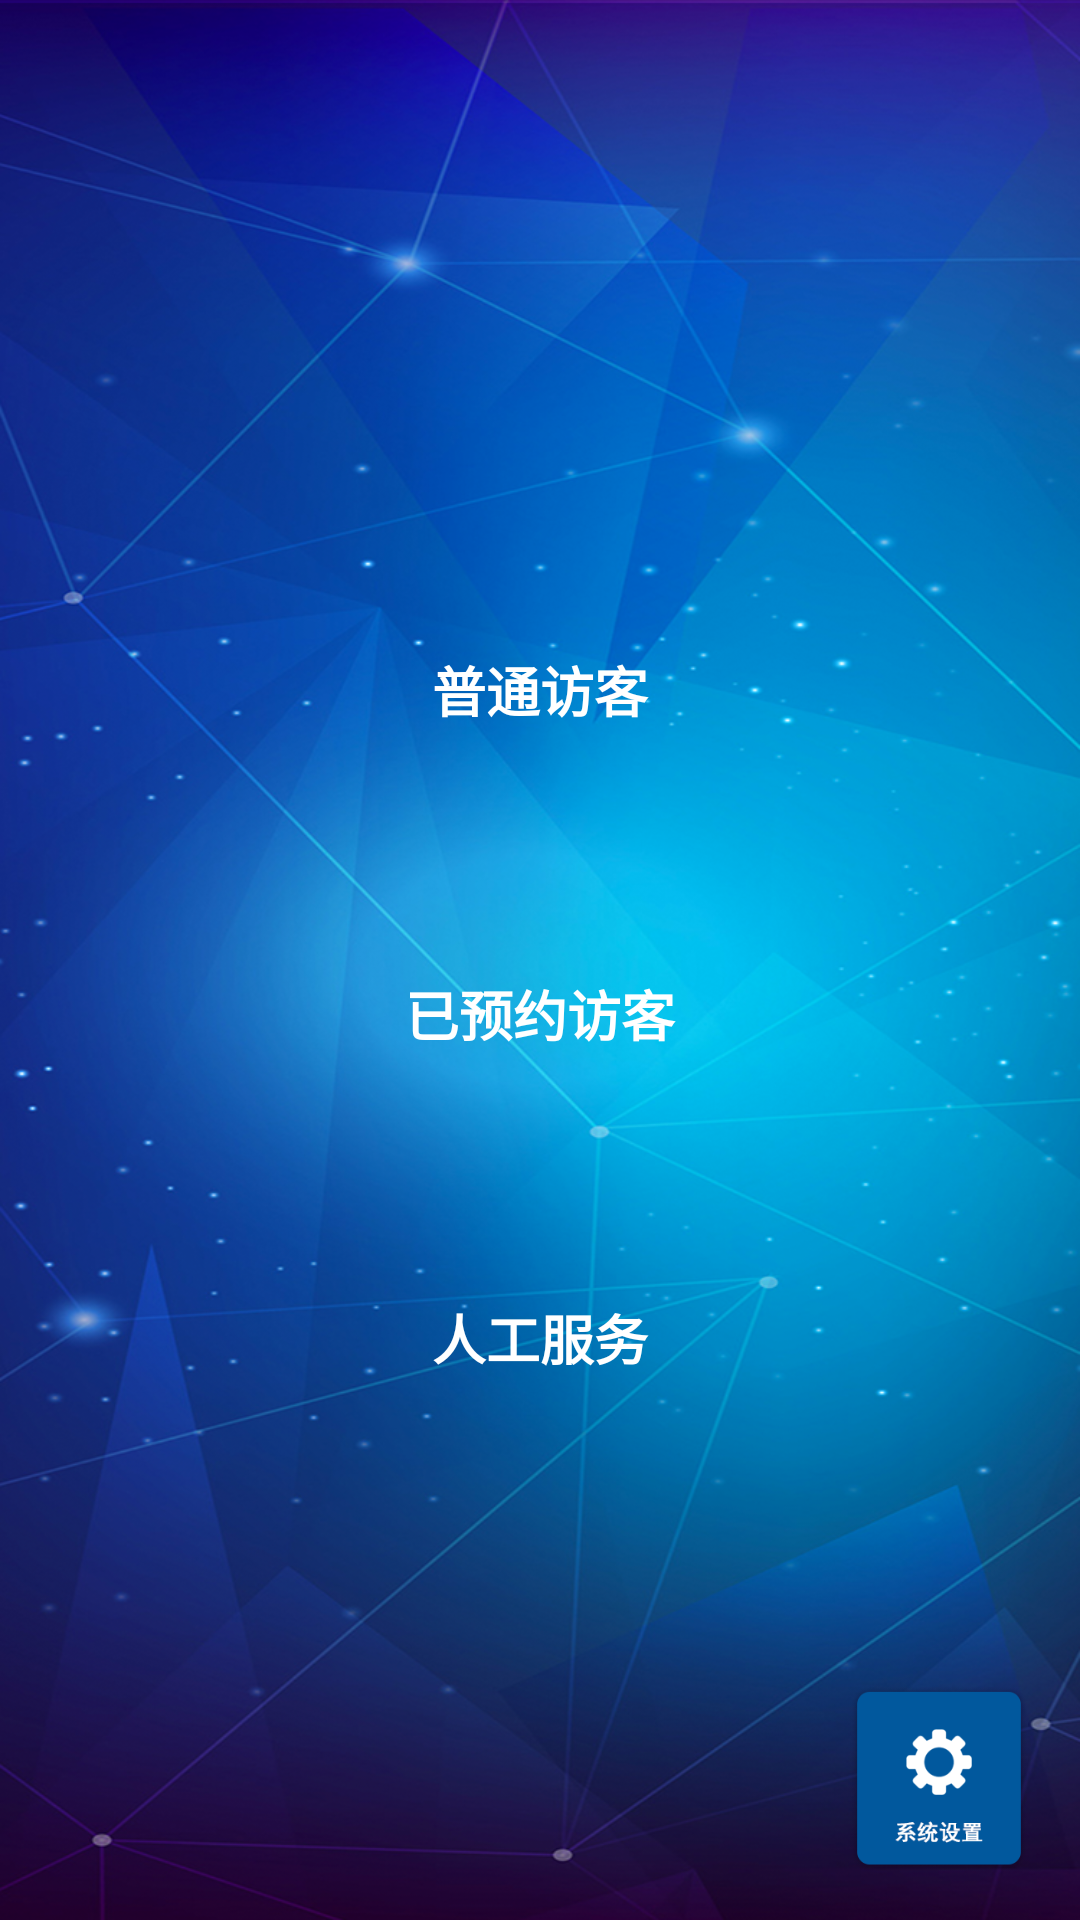

Point at icon controls on the screen. Image size 1080 x 1920, points as (x=x, y=y).
anniu: (x=939, y=1779)
